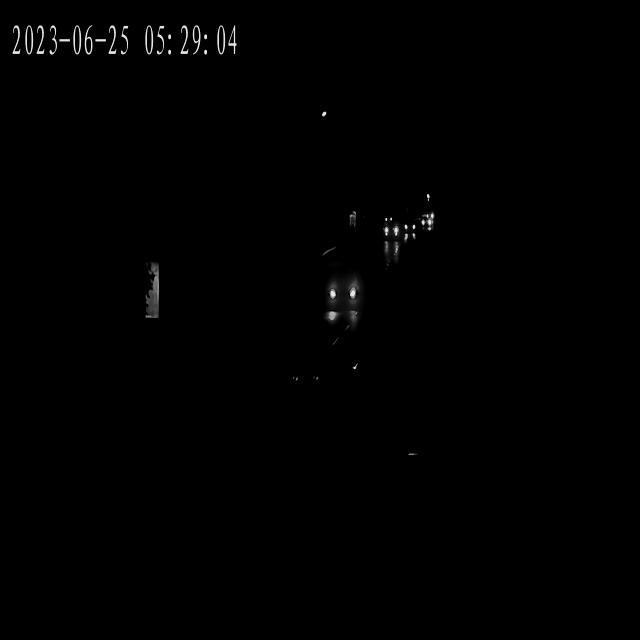Car: (326, 268, 360, 323), (385, 214, 400, 251), (402, 222, 418, 250), (417, 210, 434, 236)
